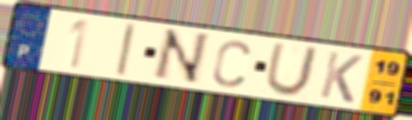1: (68, 19, 91, 69)
C: (210, 38, 254, 89)
I: (113, 21, 139, 78)
K: (317, 49, 365, 105)
N: (148, 27, 212, 86)
U: (262, 42, 321, 98)
